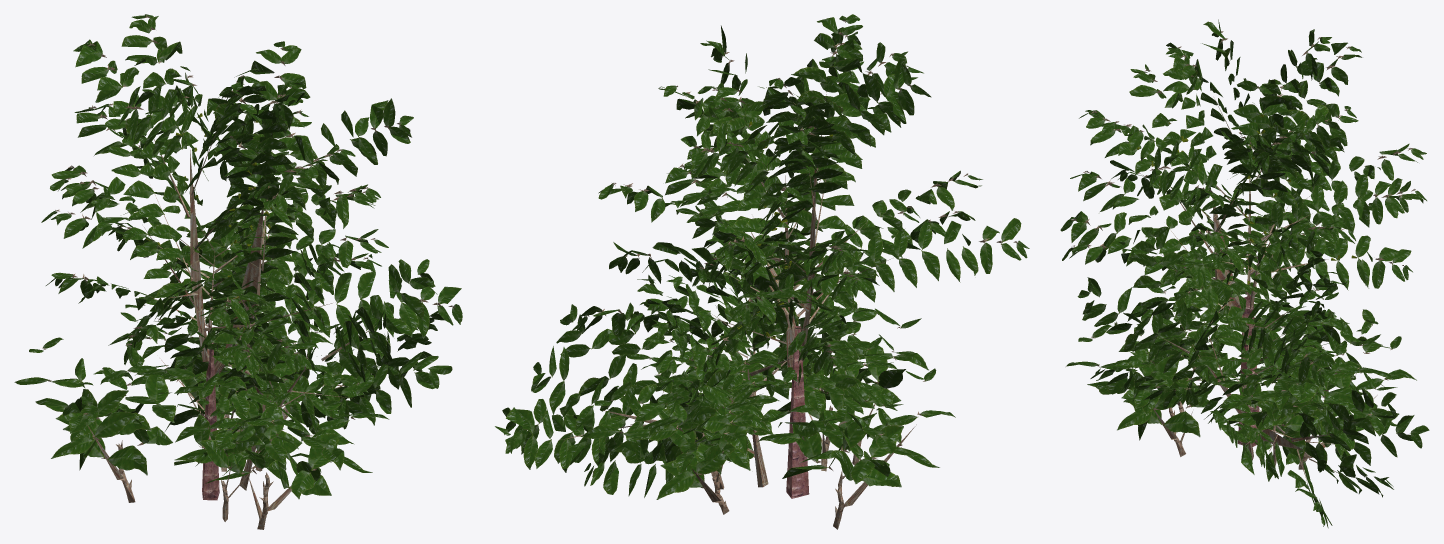
File: Tree_Coffee_Large.obj
3 renders of one model, left to right at view 1: azimuth 30°, elevation 25°; view 2: azimuth 150°, elevation 25°; view 3: azimuth 270°, elevation 25°, orthographic. The views are drawn at different scales.
Visible parts, largest first — view 1: Tree_Coffee_Large; view 2: Tree_Coffee_Large; view 3: Tree_Coffee_Large.
Part boxes in pixels (x1,y1,x2,y2): Tree_Coffee_Large: (14, 14, 462, 529); Tree_Coffee_Large: (495, 14, 1029, 529); Tree_Coffee_Large: (1060, 19, 1429, 528).
Bounding box in the file's own units: 20.54 × 21.82 × 18.05.
